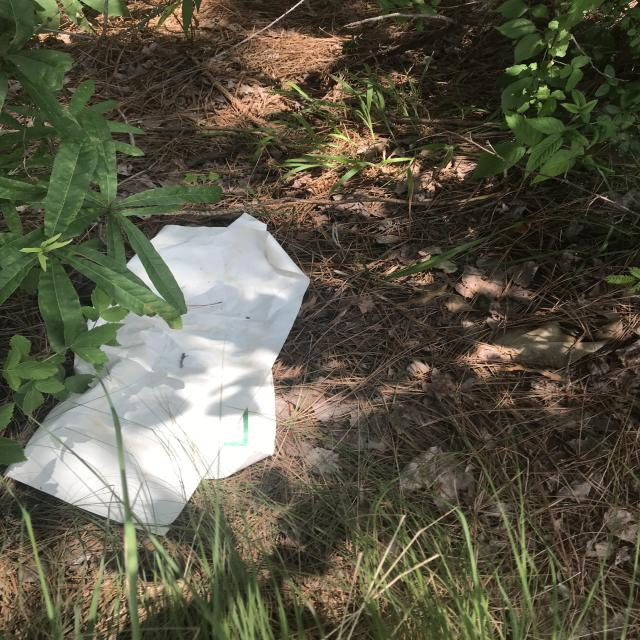litter: (4, 213, 308, 535)
